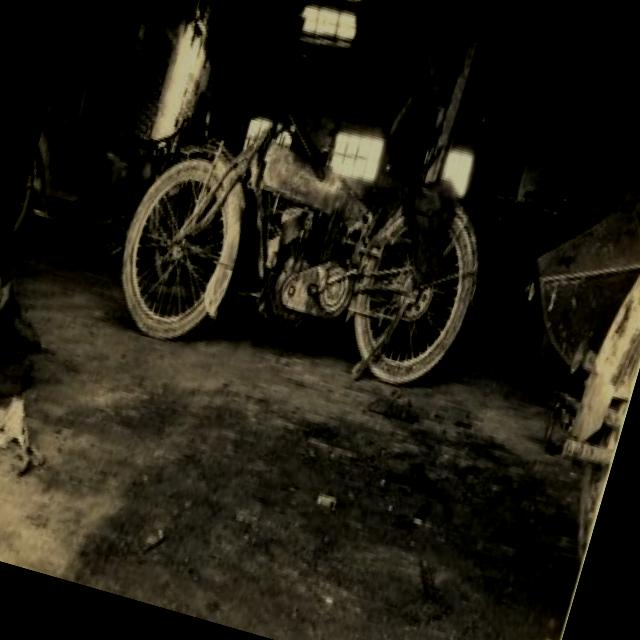Vehicle: (99, 76, 509, 420)
